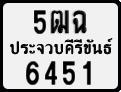letters: (50, 9, 71, 34), (32, 8, 47, 35), (25, 60, 40, 86), (72, 10, 88, 34), (62, 59, 76, 86), (44, 60, 58, 86), (82, 59, 92, 85)
province: (9, 37, 113, 55)
